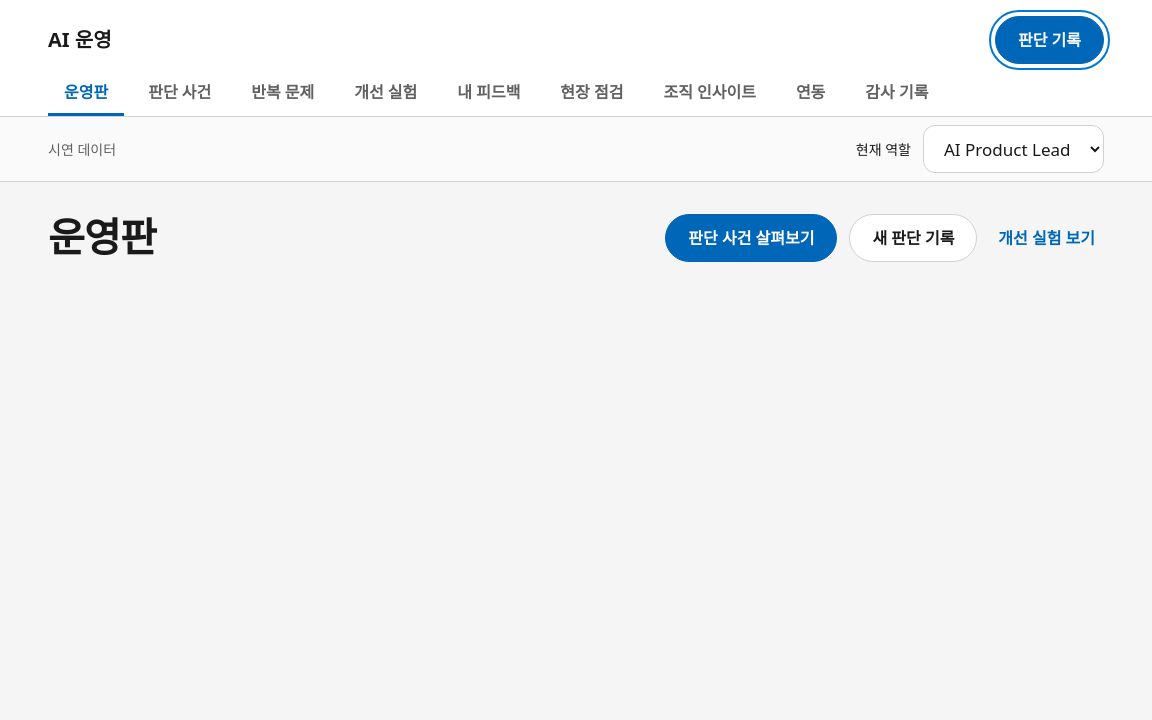
Test: OverrideLoop 모달 키보드 접근성 › 열릴 때 내부로 초점을 옮기고 Escape로 닫으면 열었던 버튼으로 돌아온다
Click the button "판단 기록" at (1050, 40), box [995, 16, 1104, 64]
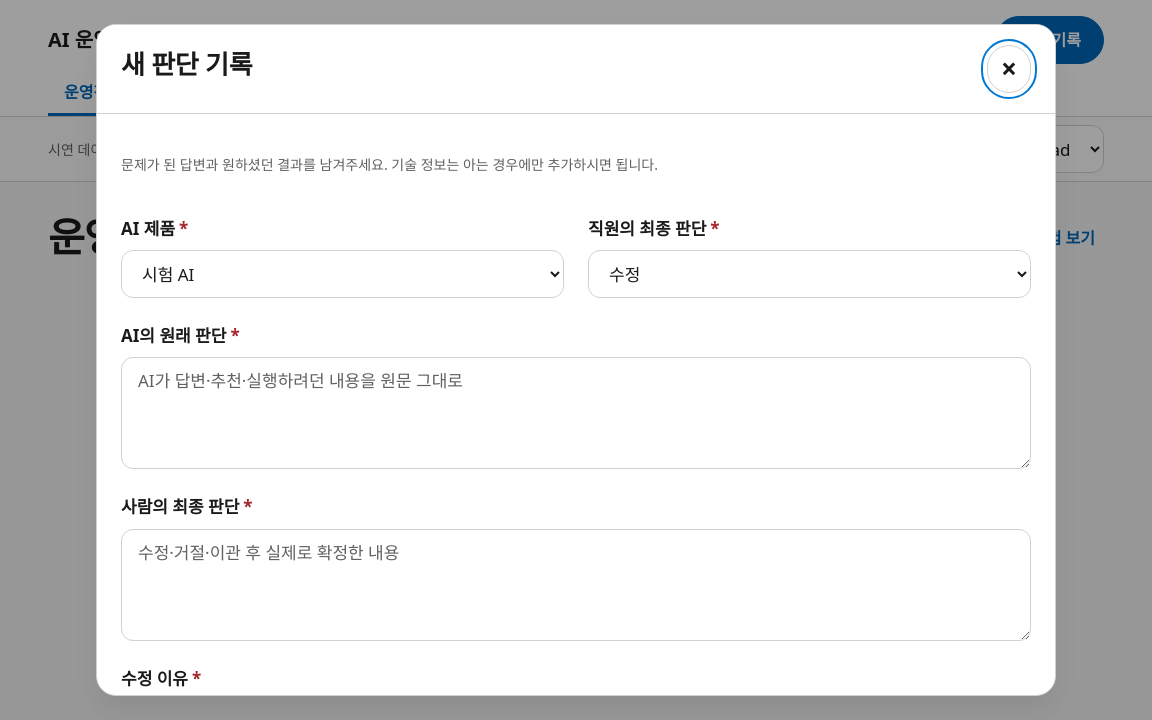
Press Escape in the button named "닫기", box [987, 45, 1031, 93]
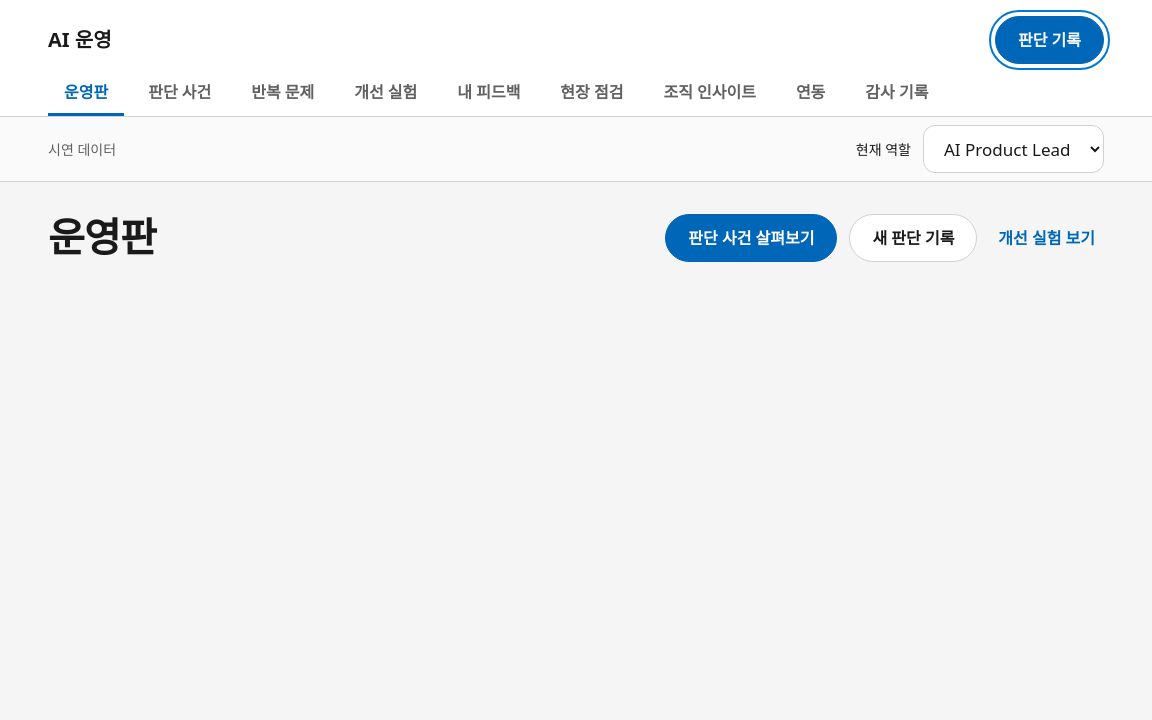
Result: the dialog is gone
